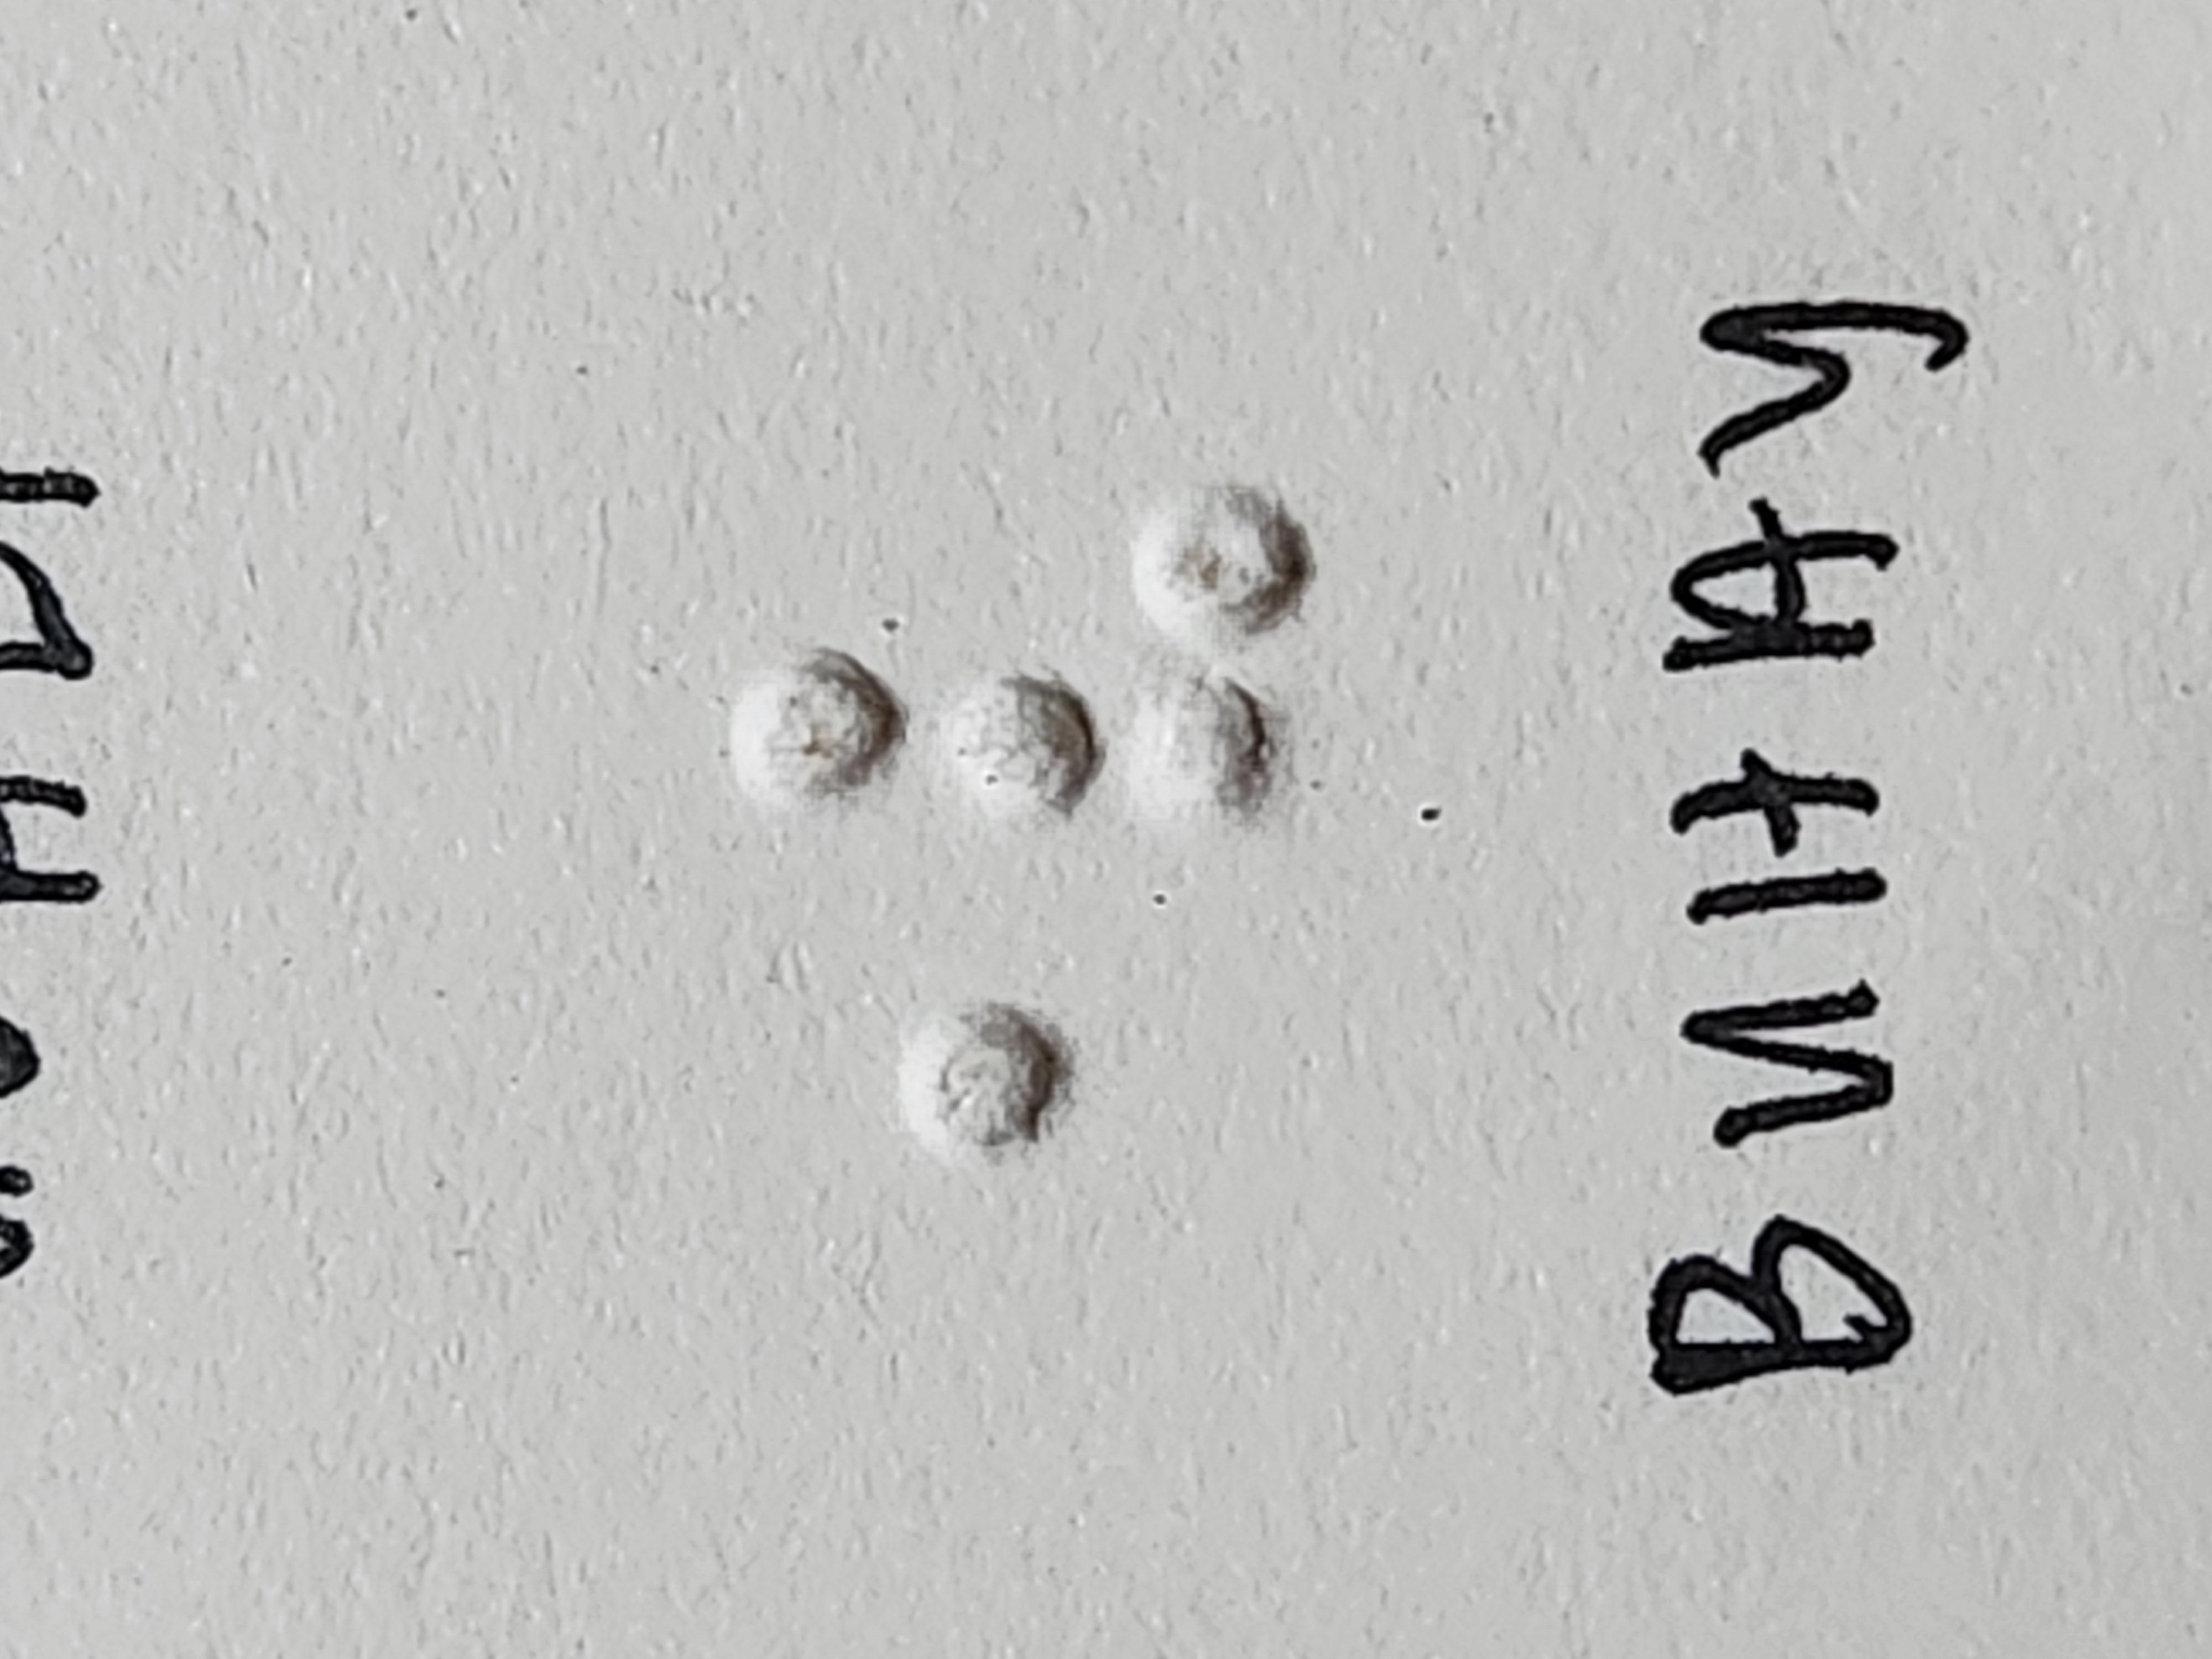dot_5: (448, 537, 880, 978)
two_cell_alphabet_buhay: (1144, 544, 1576, 985)
